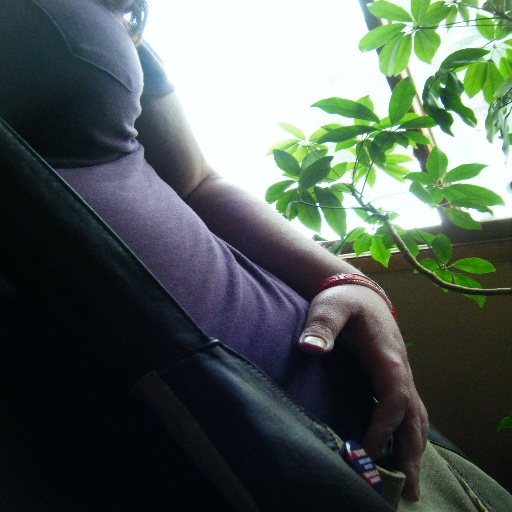hand: (264, 248, 450, 498)
